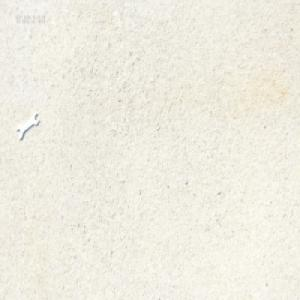Wrench: (16, 109, 39, 140)
